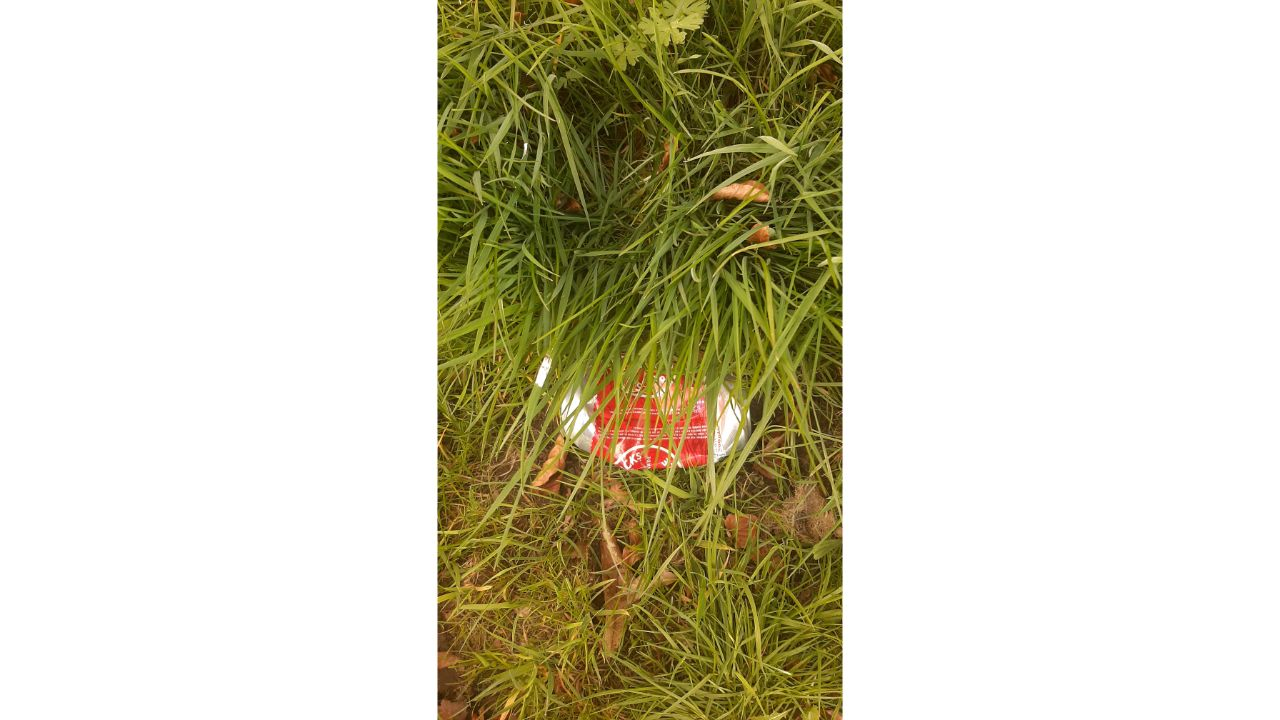Can: (549, 342, 760, 481)
